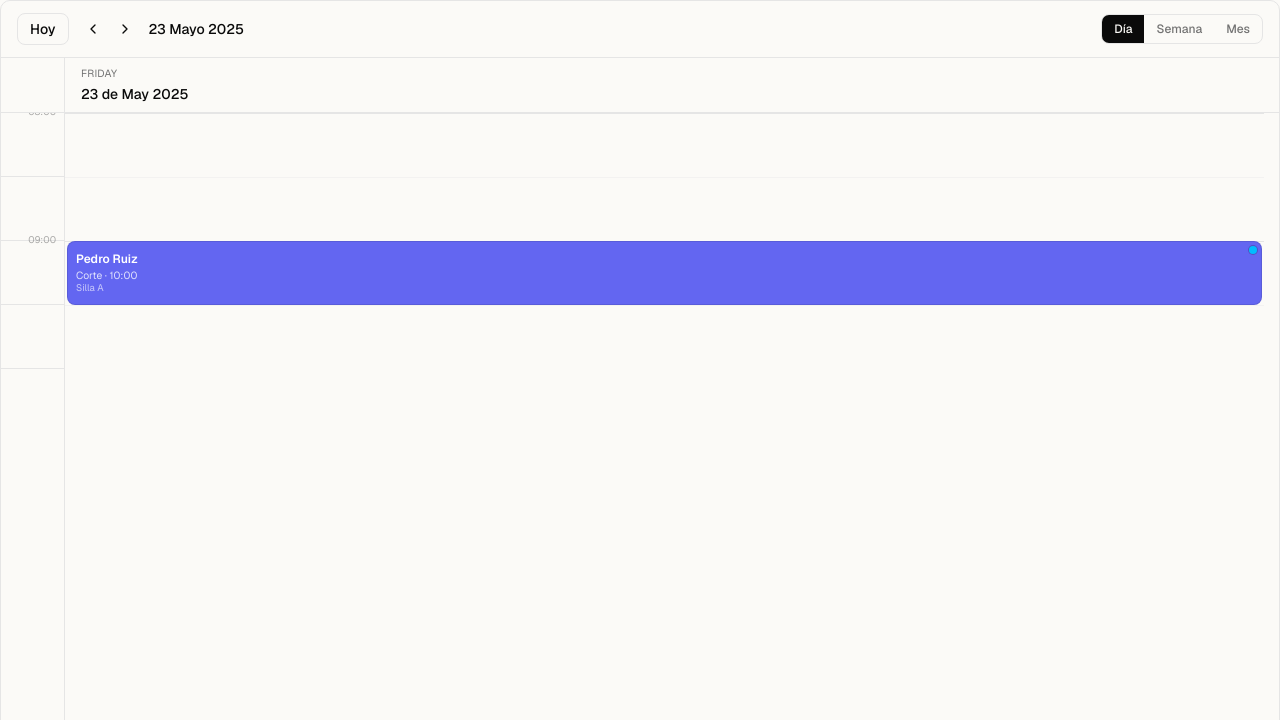
Test: CalendarView — acciones de estado › muestra botones Completar reserva y No asistió para evento CONFIRMED
Click the text "Pedro Ruiz". click: point(107, 259)
box: [76,251,138,267]
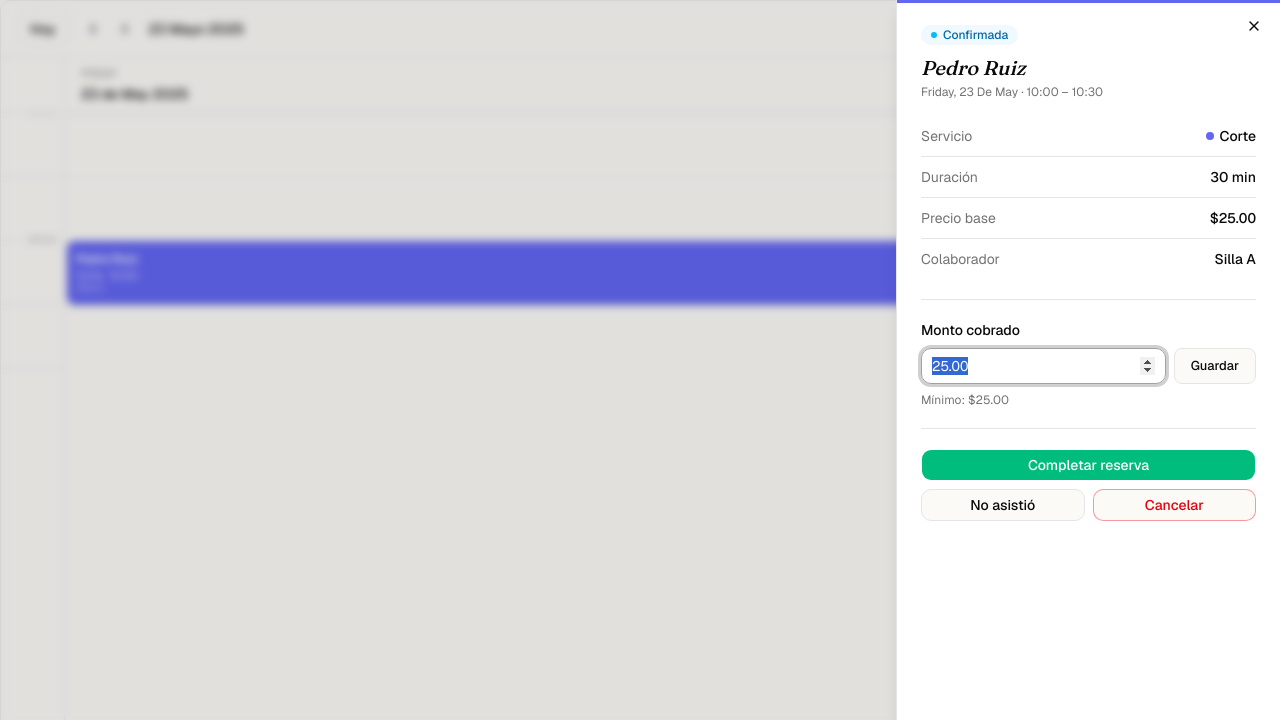
Expected: the button "Completar reserva" is shown, [921,449,1256,481]
Expected: the button "No asistió" is shown, [921,489,1084,521]
